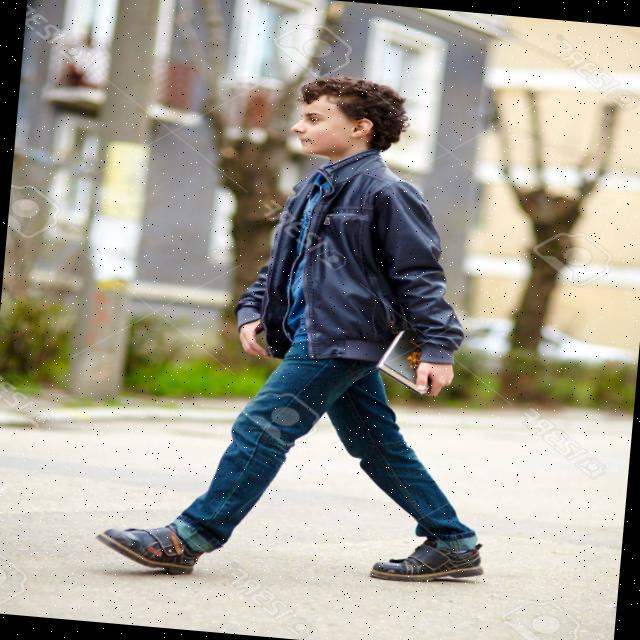Person: (92, 58, 522, 602)
